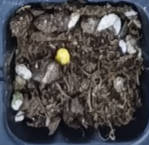pepper seed: (19, 14, 91, 80)
